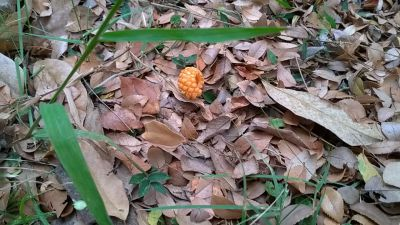eggs: (176, 64, 206, 100)
